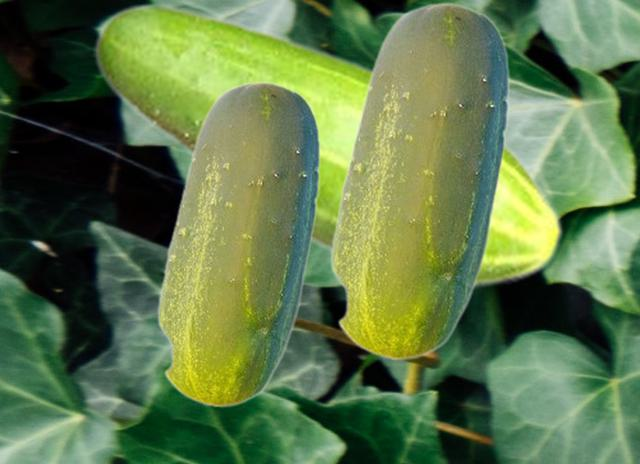cucumber: (93, 2, 564, 292), (329, 1, 508, 360), (156, 80, 319, 407)
